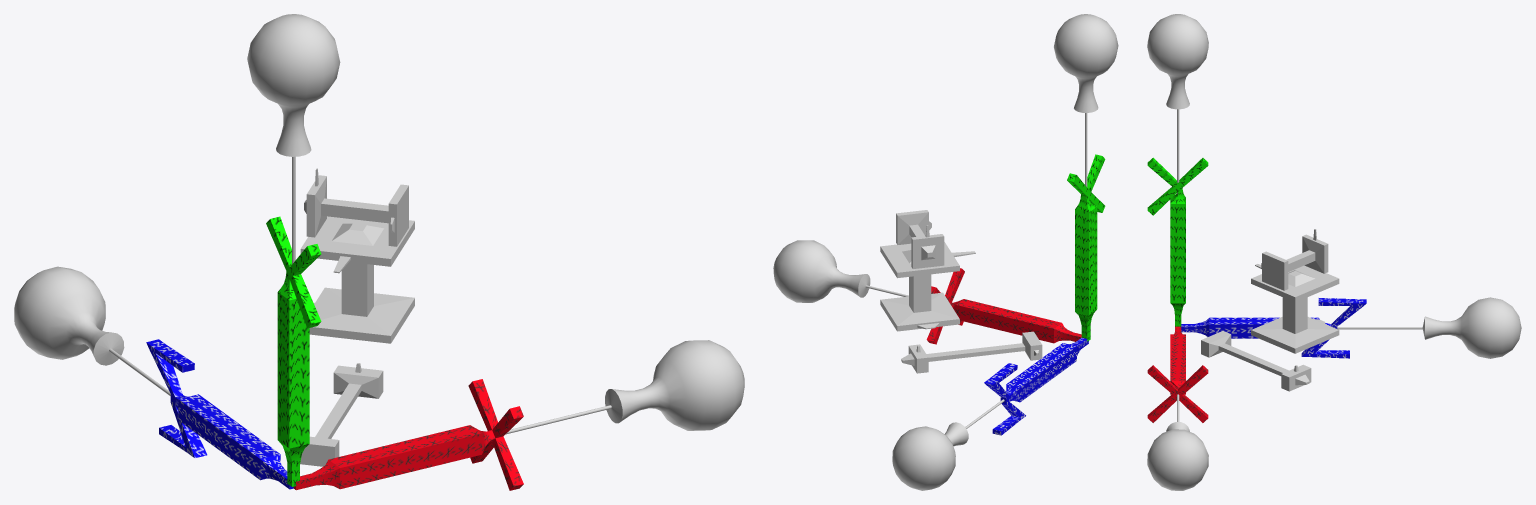
The model's file is XYZ_Forward(+X)_Up(+Y).fbx.
3 renders of one model, left to right at view 1: azimuth 30°, elevation 25°; view 2: azimuth 150°, elevation 25°; view 3: azimuth 270°, elevation 25°, orthographic. The views are drawn at different scales.
Parts seen in each view (by area): view 1: RodB, DirectionThingie_Y, DirectionThingie_X, X_Transform, DirectionThingie_Z, Y_Transform, Z_Transform, RodC, RodA; view 2: RodB, DirectionThingie_Y, DirectionThingie_X, DirectionThingie_Z, Y_Transform, X_Transform, Z_Transform, RodC, RodA; view 3: RodB, DirectionThingie_Z, DirectionThingie_Y, DirectionThingie_X, Y_Transform, Z_Transform, X_Transform, RodC, RodA.
Boxes of the visible parts, x1=… form: RodB: x1=300, y1=216, x2=414, y2=343; DirectionThingie_Y: x1=247, y1=14, x2=340, y2=264; DirectionThingie_X: x1=505, y1=340, x2=744, y2=434; X_Transform: x1=293, y1=379, x2=523, y2=490; DirectionThingie_Z: x1=14, y1=266, x2=170, y2=395; Y_Transform: x1=266, y1=216, x2=321, y2=486; Z_Transform: x1=146, y1=339, x2=293, y2=489; RodC: x1=304, y1=168, x2=408, y2=246; RodA: x1=300, y1=363, x2=383, y2=466; RodB: x1=880, y1=242, x2=975, y2=331; DirectionThingie_Y: x1=1054, y1=14, x2=1118, y2=187; DirectionThingie_X: x1=773, y1=240, x2=908, y2=302; DirectionThingie_Z: x1=892, y1=399, x2=1004, y2=490; Y_Transform: x1=1067, y1=154, x2=1105, y2=341; X_Transform: x1=926, y1=268, x2=1081, y2=344; Z_Transform: x1=984, y1=337, x2=1088, y2=435; RodC: x1=896, y1=210, x2=944, y2=268; RodA: x1=901, y1=331, x2=1042, y2=373; RodB: x1=1251, y1=264, x2=1339, y2=353; DirectionThingie_Z: x1=1337, y1=297, x2=1521, y2=358; DirectionThingie_Y: x1=1147, y1=14, x2=1208, y2=194; DirectionThingie_X: x1=1147, y1=394, x2=1208, y2=490; Y_Transform: x1=1147, y1=157, x2=1208, y2=326; Z_Transform: x1=1181, y1=298, x2=1366, y2=358; X_Transform: x1=1147, y1=326, x2=1208, y2=422; RodC: x1=1261, y1=229, x2=1328, y2=290; RodA: x1=1201, y1=331, x2=1311, y2=391.
Bounding box in the file's own units: 240 × 240 × 240.
Materials: 1 (1 with a texture image).
